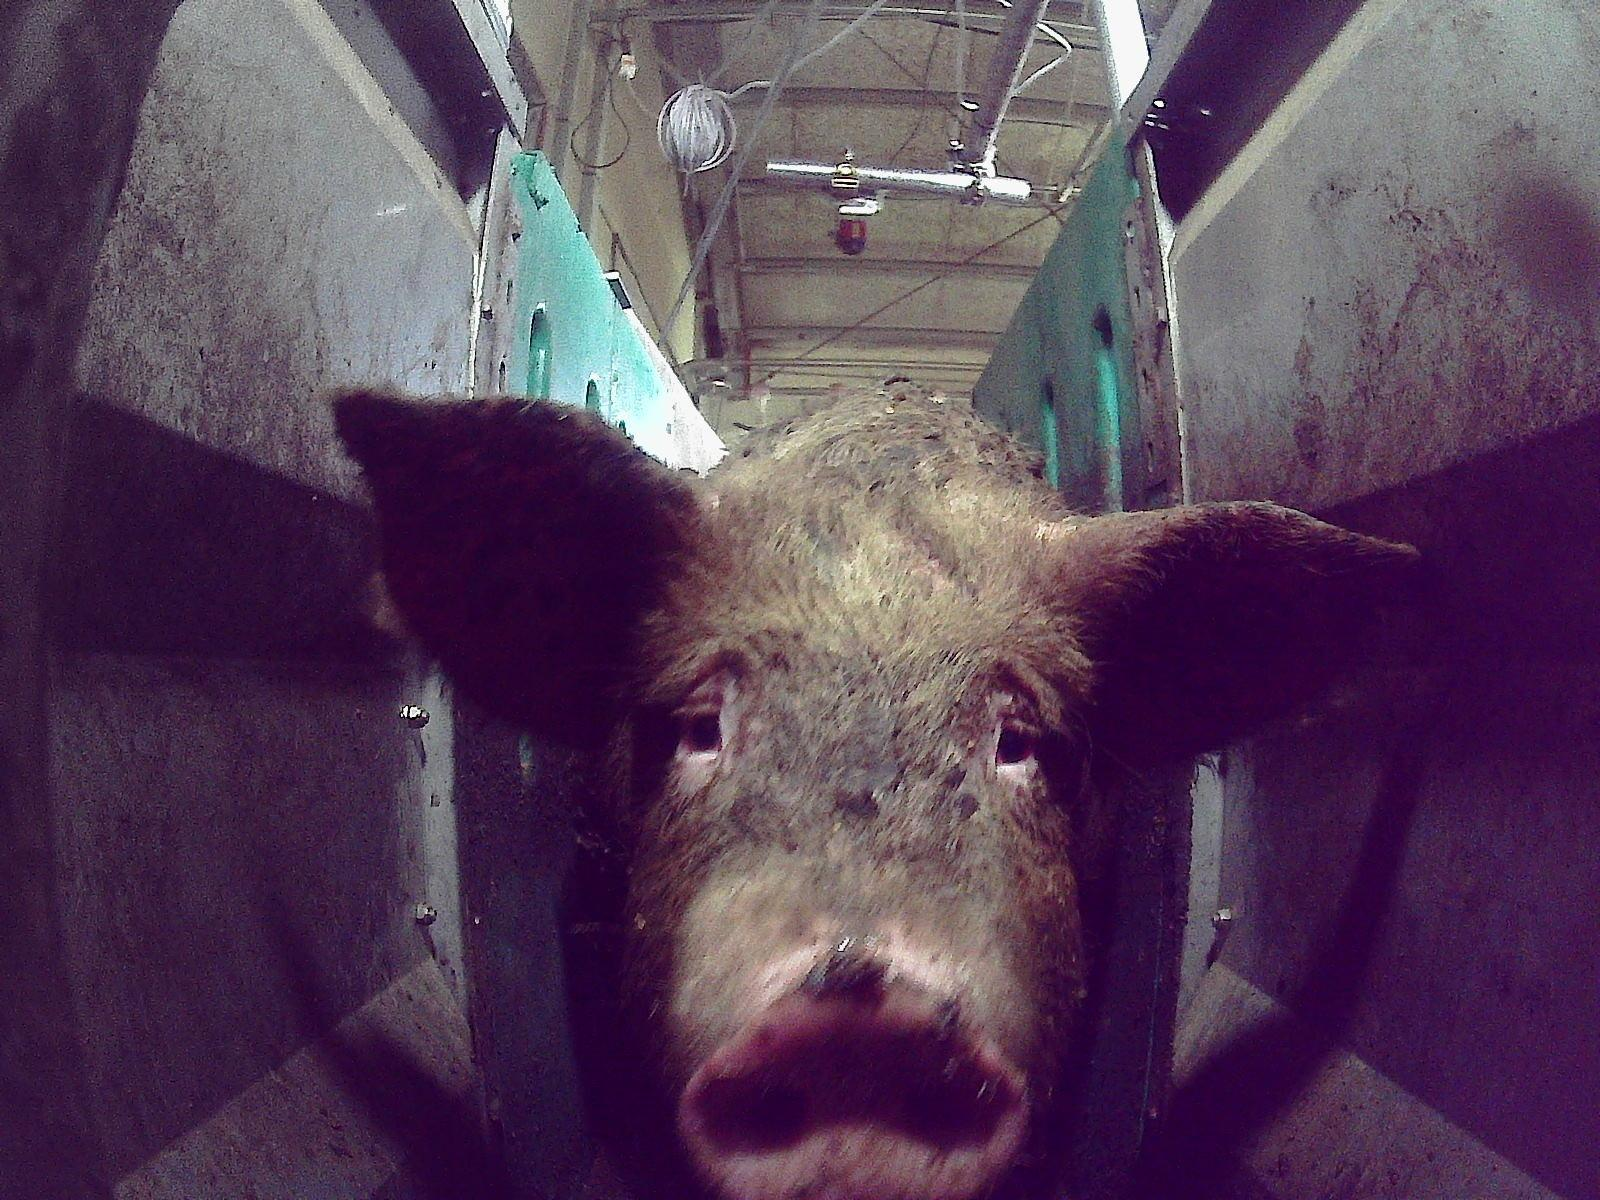Face: (600, 459, 1112, 1199)
